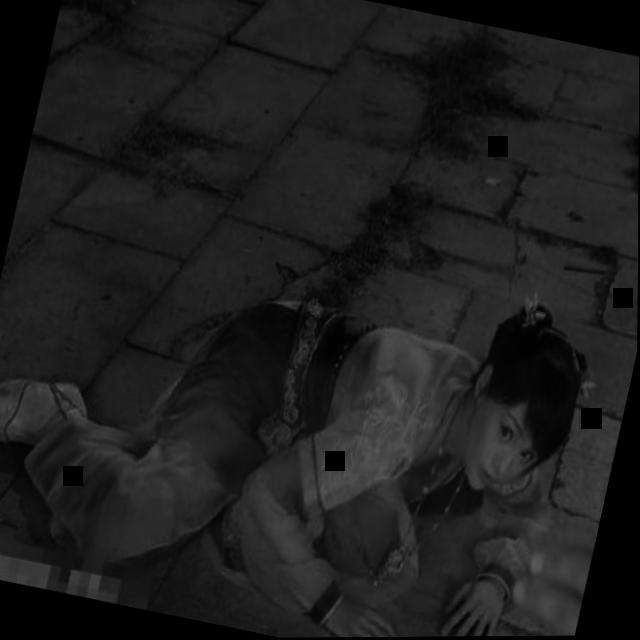Fall-Detected: (0, 202, 621, 640)
